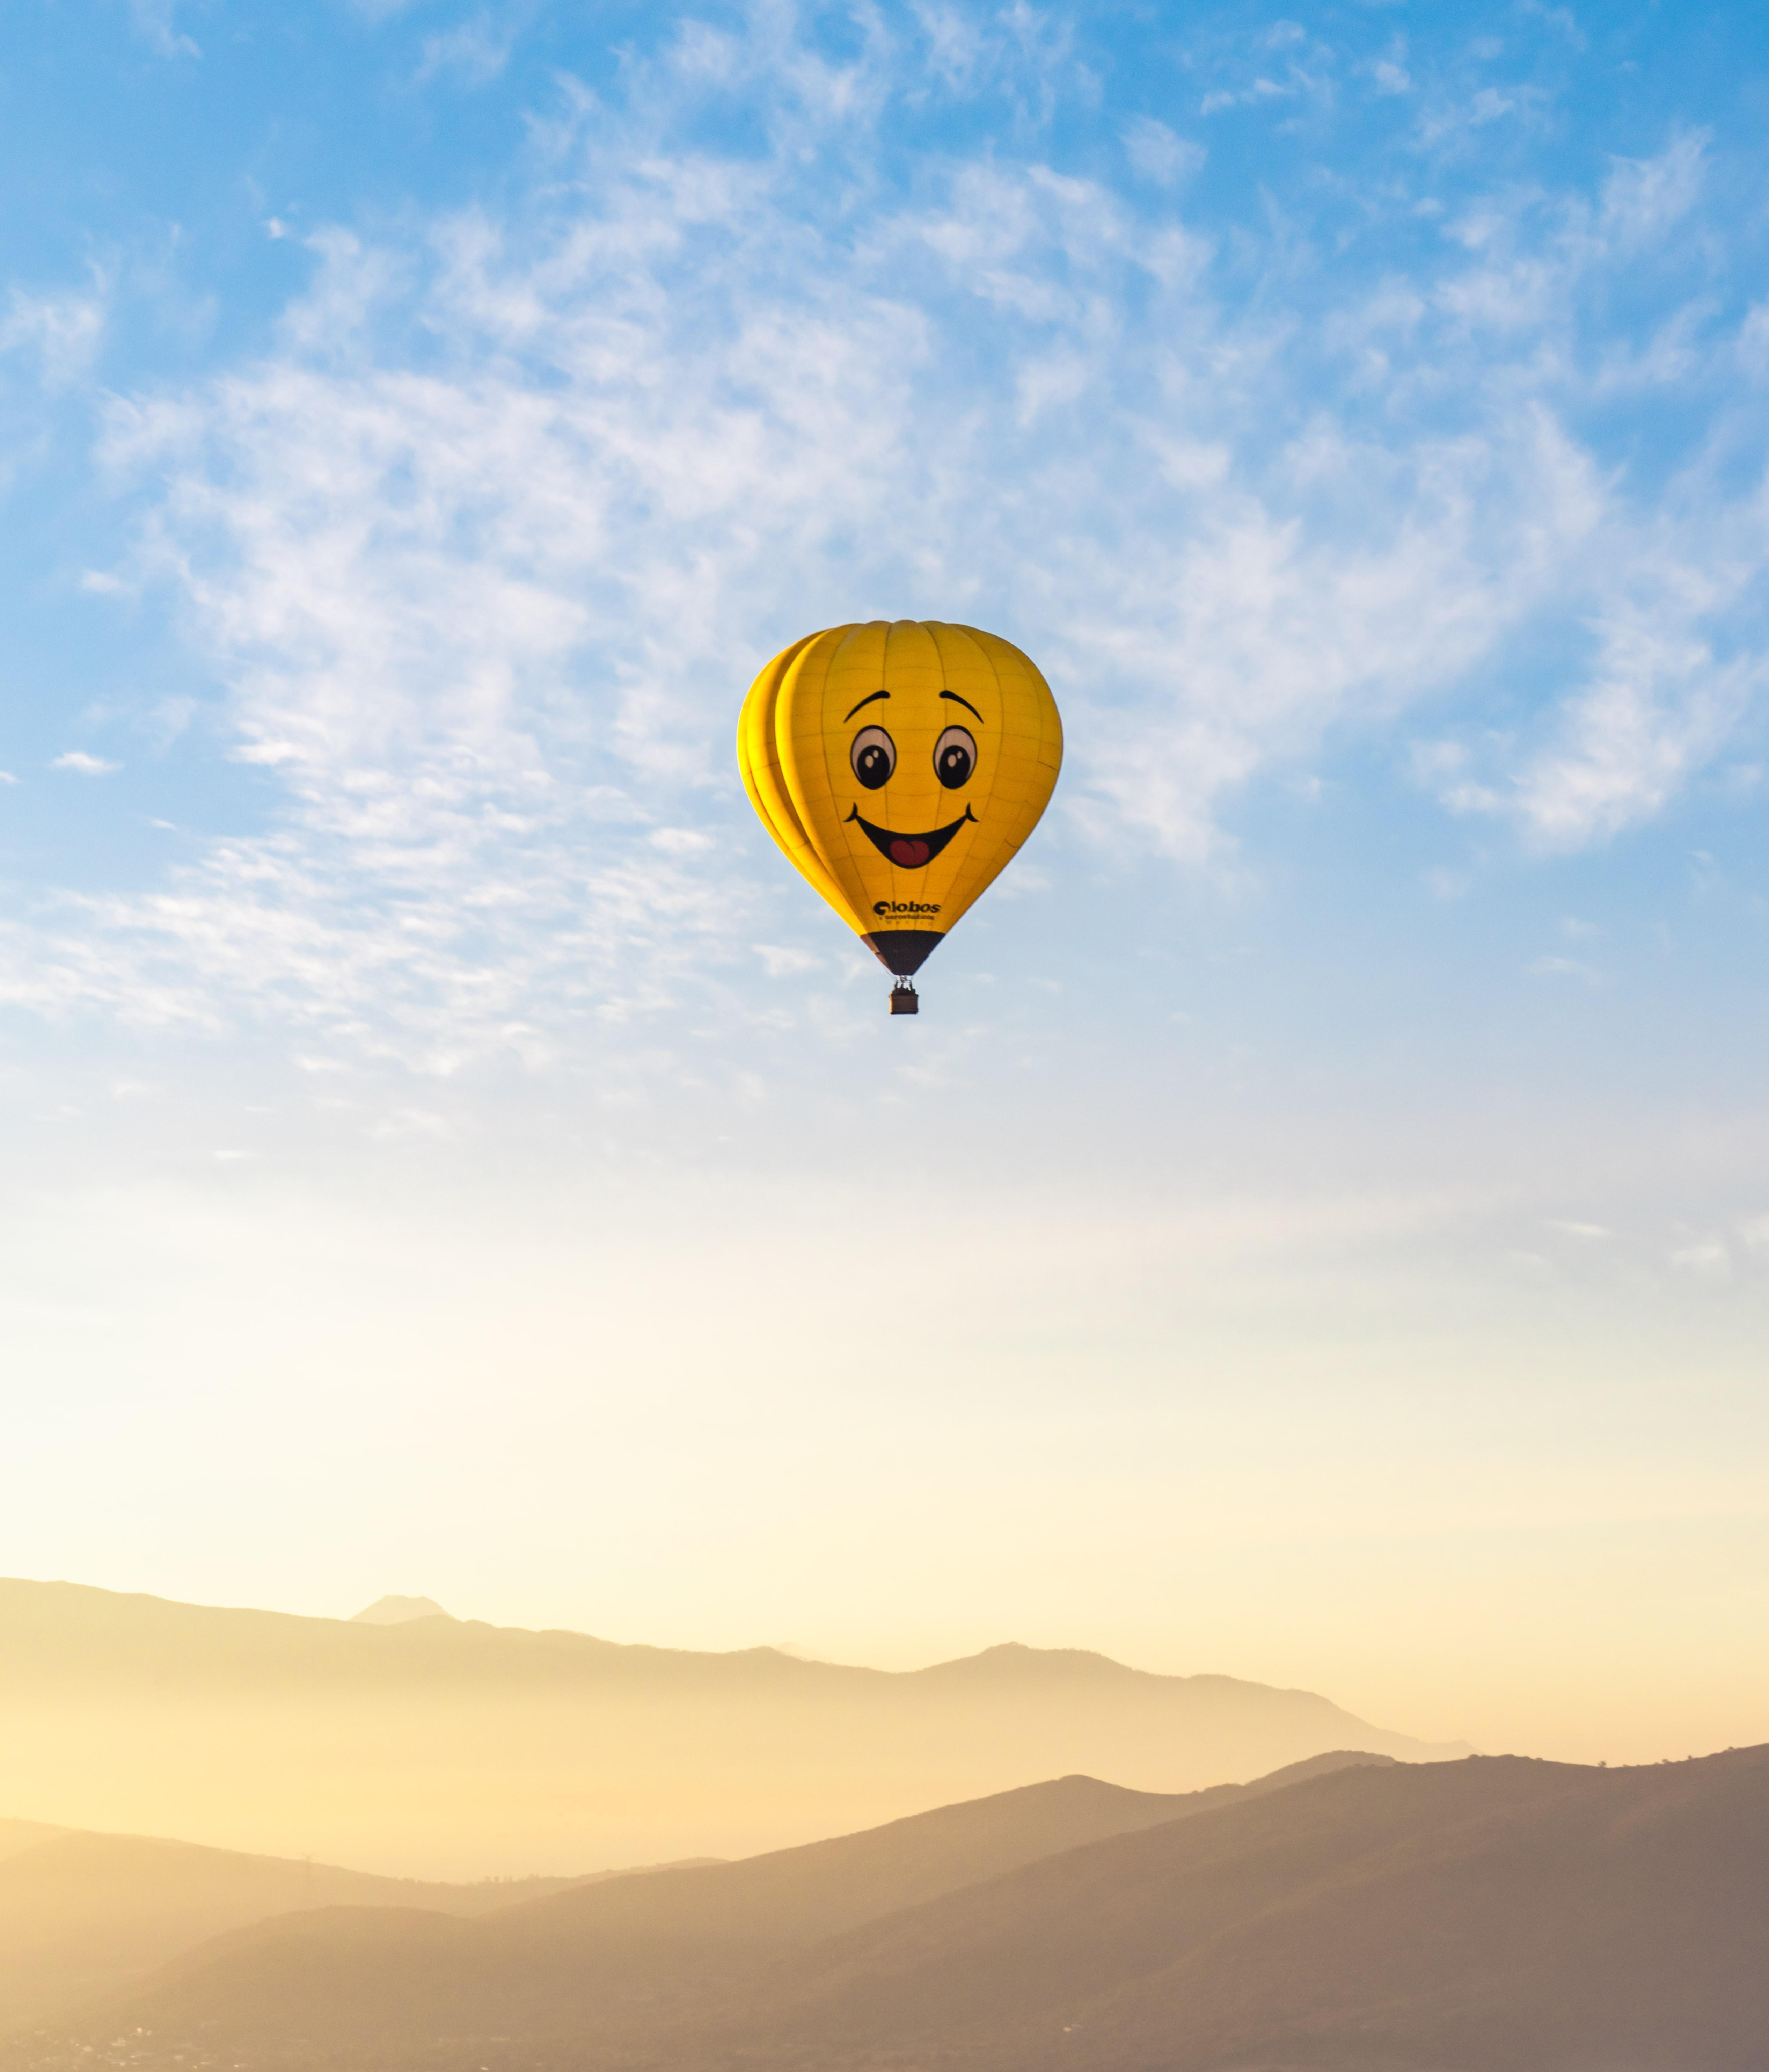hot air ballon: (739, 622, 1058, 1015)
